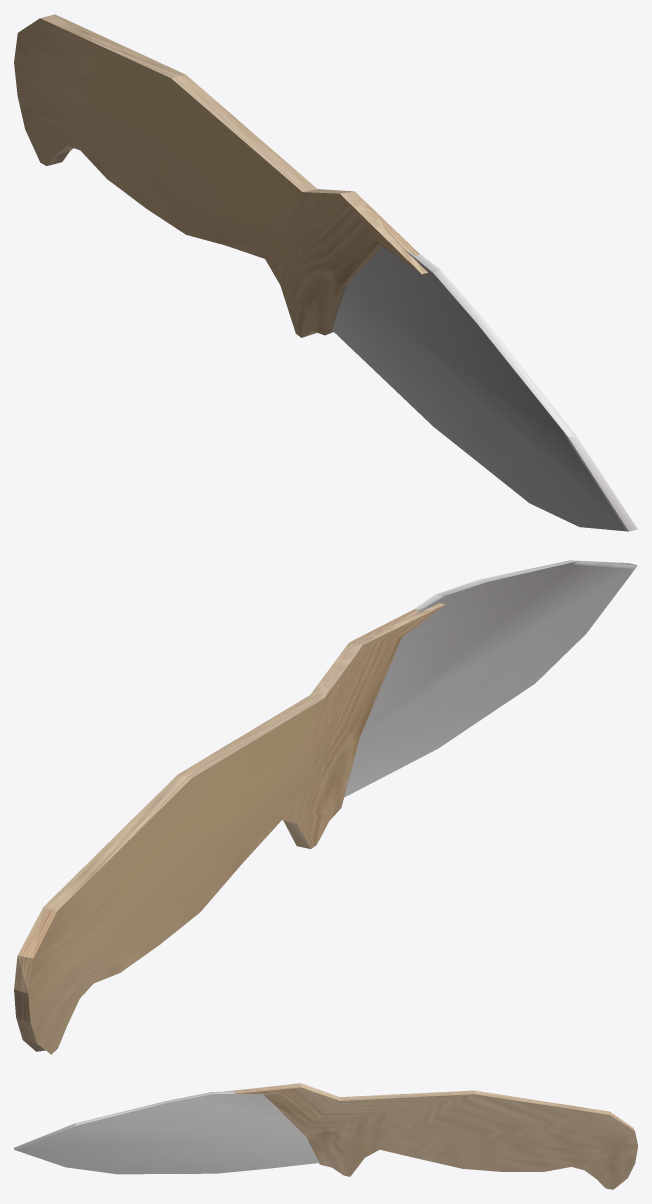
File: nifess.obj
The picture shows the model from 3 angles, top to bottom: view 1: azimuth 30°, elevation 25°; view 2: azimuth 150°, elevation 25°; view 3: azimuth 270°, elevation 25°; orthographic projection. The views are drawn at different scales.
Parts seen in each view (by area): view 1: 立方体, nife_立方体.001; view 2: 立方体, nife_立方体.001; view 3: 立方体, nife_立方体.001.
Boxes of the visible parts, bbox=[...] form: 立方体: bbox=[14, 14, 427, 337]; nife_立方体.001: bbox=[332, 246, 637, 531]; 立方体: bbox=[14, 603, 444, 1054]; nife_立方体.001: bbox=[344, 560, 637, 797]; 立方体: bbox=[224, 1083, 637, 1189]; nife_立方体.001: bbox=[14, 1091, 319, 1174].
Bounding box in the file's own units: 0.1155 × 0.7737 × 4.37.
2 materials, 2 textured.
